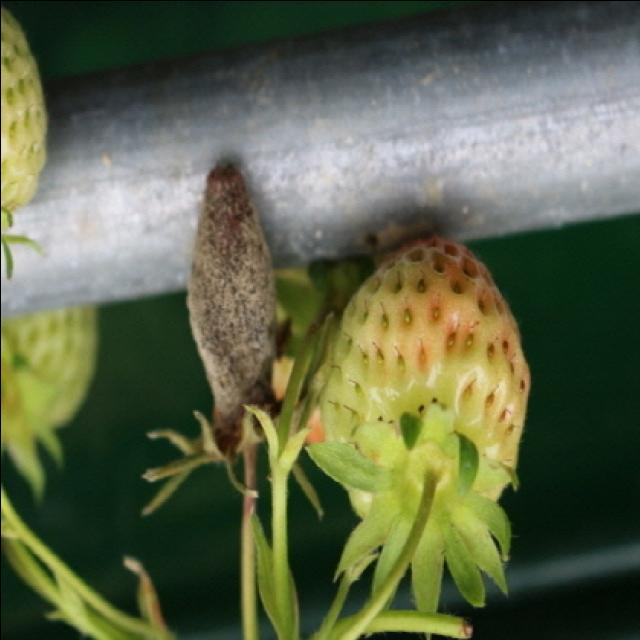Gray Mold: (185, 162, 277, 457)
